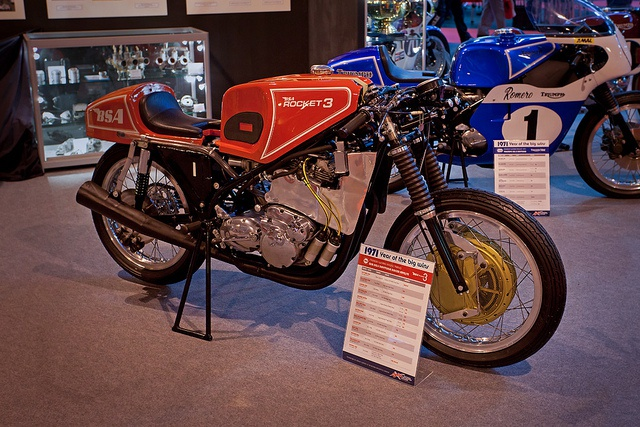non-vehicle: (75, 62, 567, 370), (321, 0, 639, 200)
